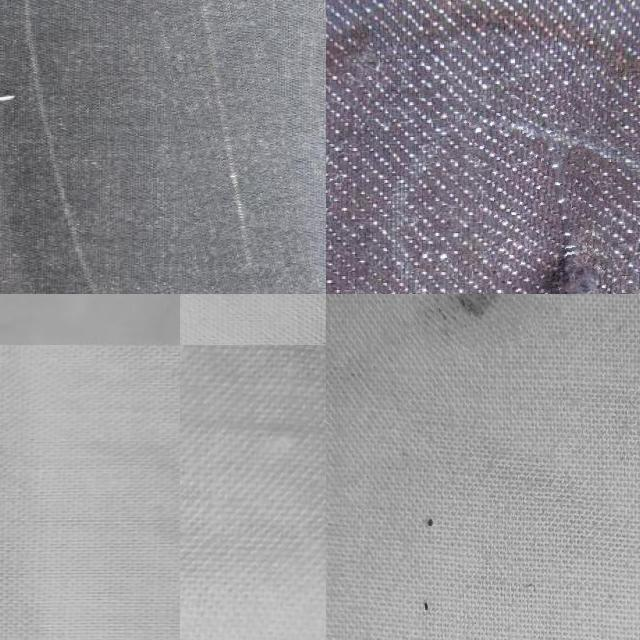Thread_other: (326, 463, 483, 640), (407, 294, 534, 356)
stains: (124, 0, 296, 294), (476, 87, 620, 294)
